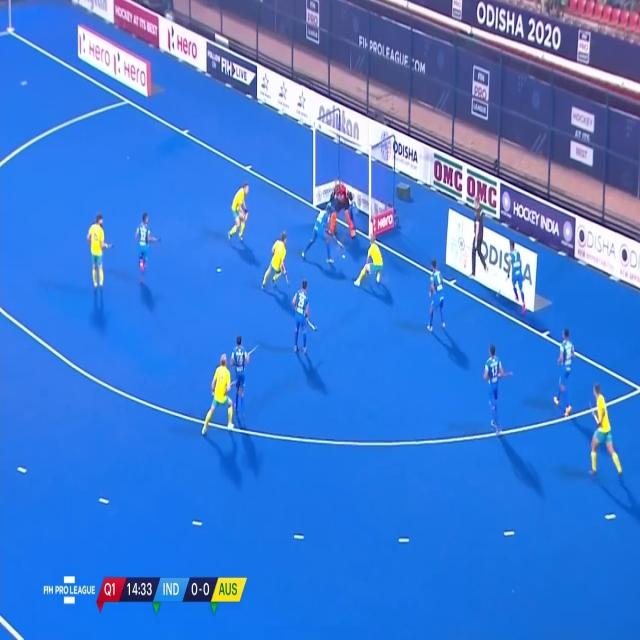ball: (340, 252, 347, 260)
